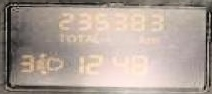1: (74, 53, 84, 74)
2: (84, 52, 100, 76), (55, 10, 72, 29)
3: (15, 52, 34, 73), (74, 10, 90, 29), (147, 12, 163, 31), (110, 12, 125, 31)
4: (109, 53, 129, 74)
6: (92, 12, 108, 31)
8: (128, 54, 147, 75), (127, 12, 143, 31)
X: (65, 32, 75, 42), (55, 32, 64, 41), (83, 33, 92, 42), (137, 33, 145, 43), (75, 32, 82, 42), (90, 33, 97, 43), (147, 36, 158, 42)
